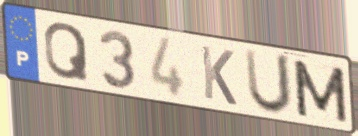3: (97, 28, 137, 91)
4: (148, 34, 191, 101)
K: (198, 42, 239, 108)
M: (290, 57, 351, 126)
Q: (43, 21, 92, 84)
U: (242, 46, 294, 118)
